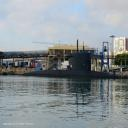submarine: (20, 55, 124, 81)
